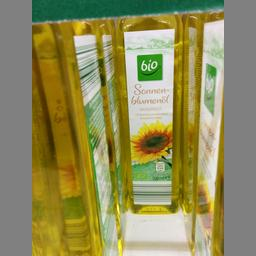oil: (114, 14, 183, 212)
